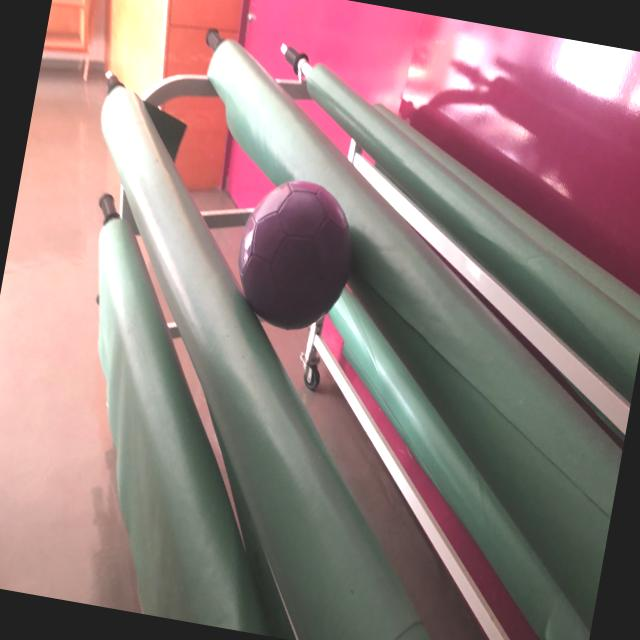purple_ball: (226, 172, 362, 338)
